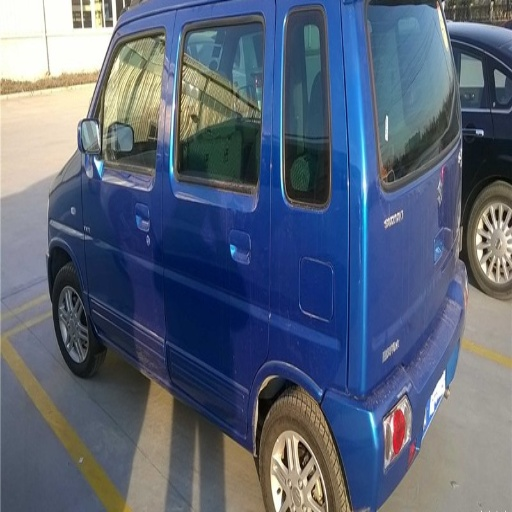back_bumper: (346, 415, 411, 501)
back_glass: (385, 21, 432, 75)
front_left_door: (85, 31, 163, 332)
trunk: (102, 168, 422, 315)
